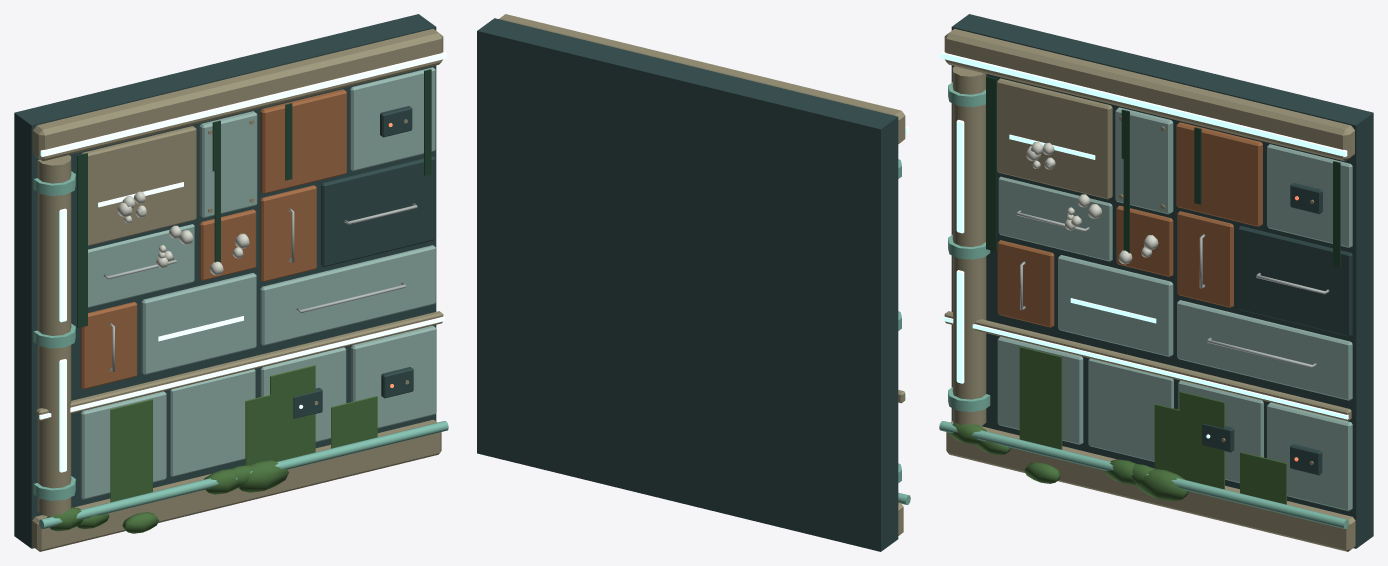
Rendered from wall_dr_plate.glb.
The picture shows the model from 3 angles, left to right: view 1: azimuth 30°, elevation 25°; view 2: azimuth 150°, elevation 25°; view 3: azimuth 330°, elevation 25°; orthographic projection.
Visible parts, largest first — view 1: wall_dr_plate; view 2: wall_dr_plate; view 3: wall_dr_plate.
Boxes of the visible parts, x1,y1,x2,y2 form: wall_dr_plate: (14,14,448,551); wall_dr_plate: (477,14,910,551); wall_dr_plate: (939,14,1373,551).
Size of the model in its own units: 4 by 4.01 by 0.5647.
